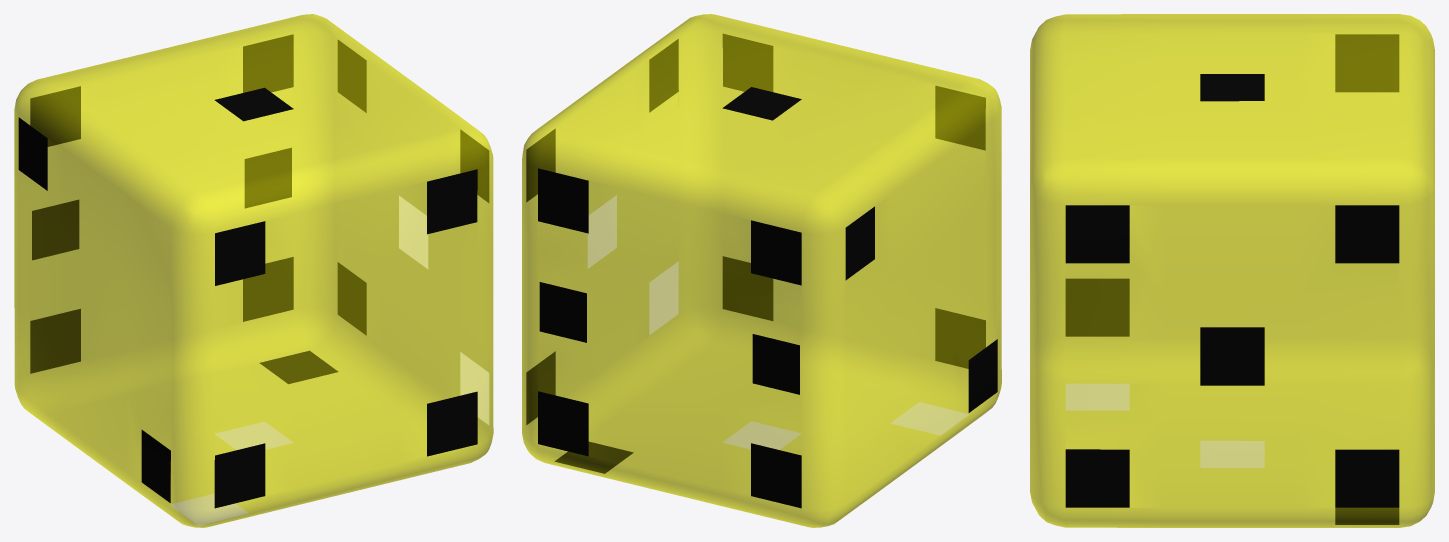
File: GlassDiceSelec.fbx
The picture shows the model from 3 angles, left to right: view 1: azimuth 30°, elevation 25°; view 2: azimuth 150°, elevation 25°; view 3: azimuth 270°, elevation 25°; orthographic projection. The views are drawn at different scales.
Parts seen in each view (by area): view 1: Glass.002; view 2: Glass.002; view 3: Glass.002.
Part boxes in pixels (box(x1,y1,x2,y2)): Glass.002: box(14, 14, 493, 527); Glass.002: box(522, 14, 1001, 527); Glass.002: box(1030, 14, 1434, 527).
Bounding box in the file's own units: 200 × 200 × 200.
